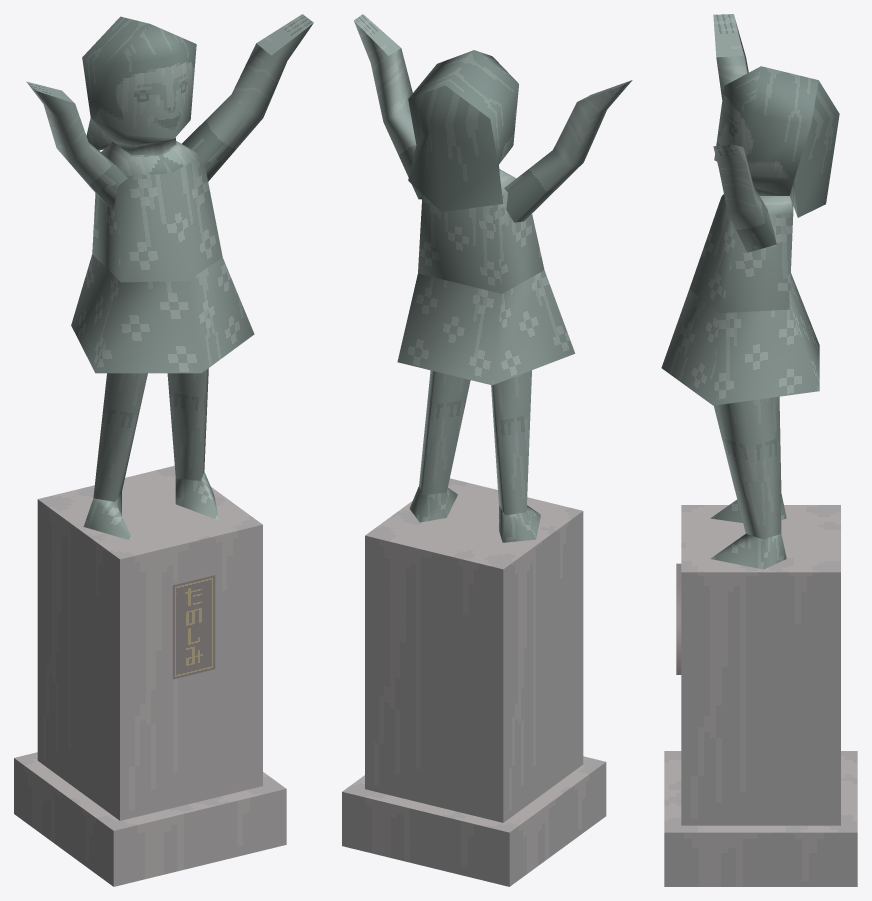
The model's file is 0436_Spirit_of_Fun.glb.
3 renders of one model, left to right at view 1: azimuth 30°, elevation 25°; view 2: azimuth 150°, elevation 25°; view 3: azimuth 270°, elevation 25°, orthographic. The views are drawn at different scales.
Parts seen in each view (by area): view 1: part_0; view 2: part_0; view 3: part_0.
Boxes of the visible parts, left/top/right/bottom form: part_0: left=14, top=14, right=313, bottom=886; part_0: left=342, top=14, right=632, bottom=886; part_0: left=661, top=14, right=857, bottom=886.
Size of the model in its own units: 1.25 by 3.45 by 0.7866.
Materials: 1 (1 with a texture image).
